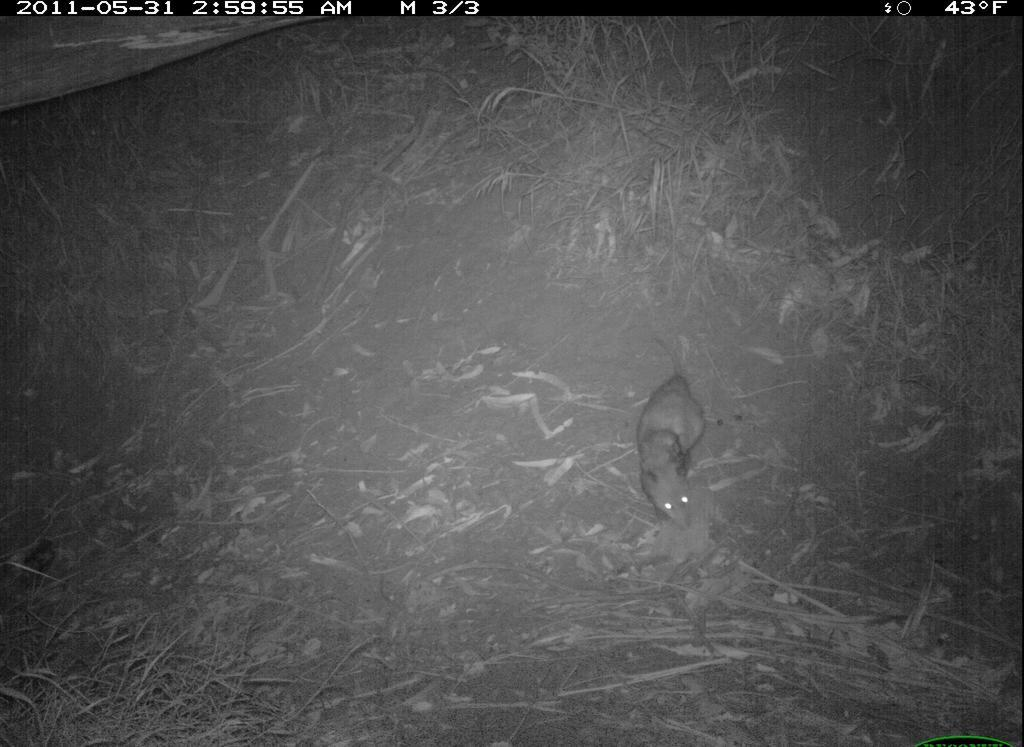opossum: (633, 319, 717, 537)
